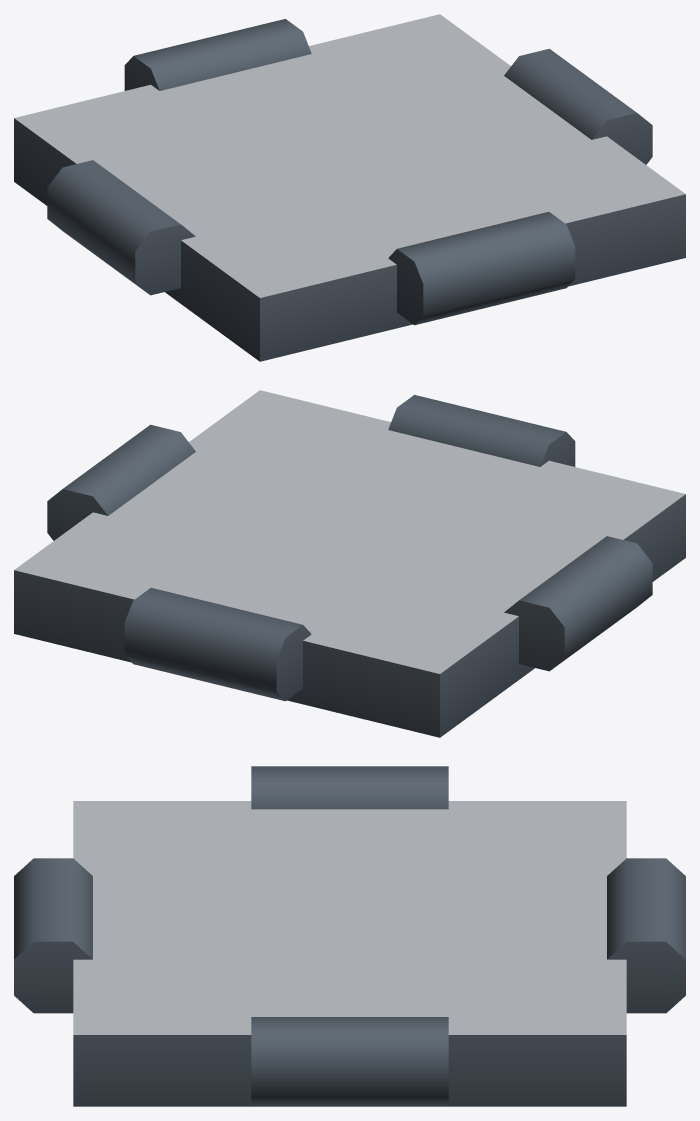
Rendered from structure-panel.glb.
3 views of the same model, one above another, from view 1: azimuth 30°, elevation 25°; view 2: azimuth 150°, elevation 25°; view 3: azimuth 270°, elevation 25° (orthographic). The views are drawn at different scales.
Visible parts, largest first — view 1: structure-panel; view 2: structure-panel; view 3: structure-panel.
Boxes of the visible parts, x1=… form: structure-panel: x1=14, y1=14, x2=685, y2=361; structure-panel: x1=14, y1=390, x2=685, y2=737; structure-panel: x1=14, y1=766, x2=685, y2=1106.
Size of the model in its own units: 0.85 by 0.125 by 0.85.
